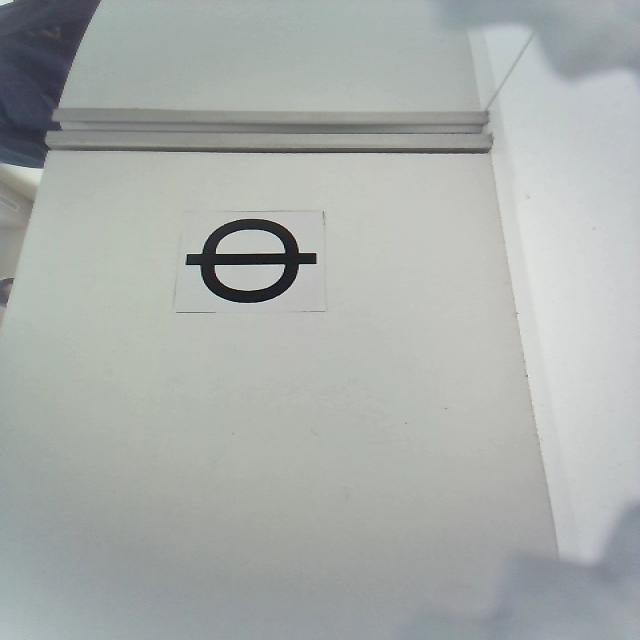F: (181, 217, 320, 305)
